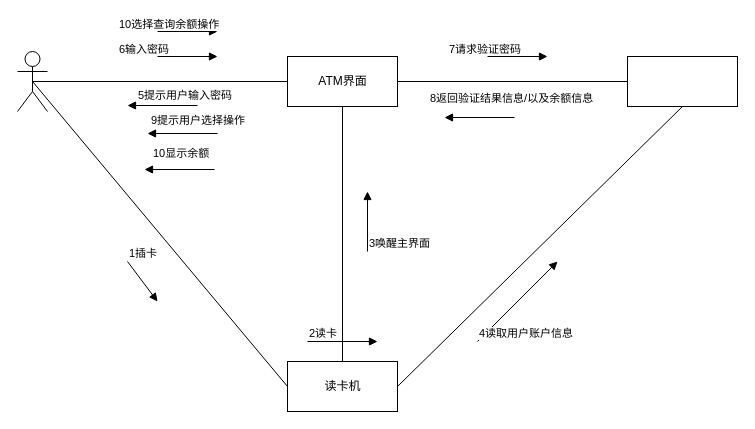
This 755x429 diagram has some shape labels left out. The box of each missing label's shape, as (x1, y1, x2, y2) in pixels:
事务处理器: (626, 56, 738, 106)
客户: (16, 50, 48, 112)
